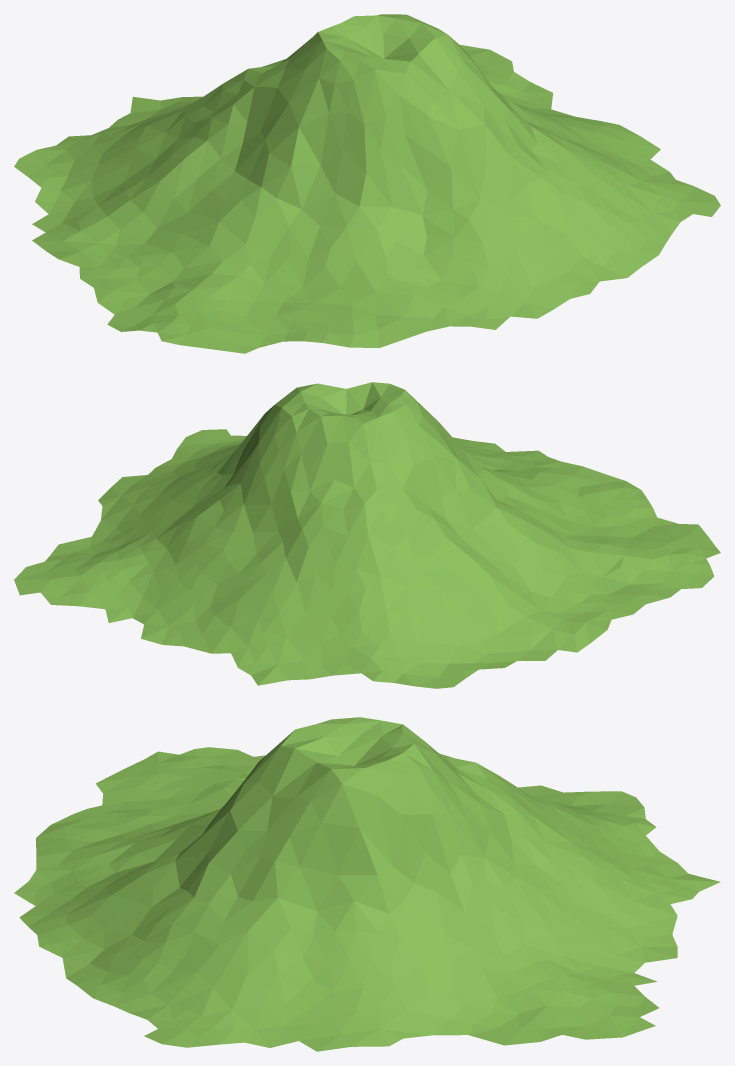
Rendered from MT_Mountain_L_a_12_LOD.fbx.
3 views of the same model, one above another, from view 1: azimuth 30°, elevation 25°; view 2: azimuth 150°, elevation 25°; view 3: azimuth 270°, elevation 25° (orthographic). The views are drawn at different scales.
Parts seen in each view (by area): view 1: MT_Mountain_L_a_12_LOD0; view 2: MT_Mountain_L_a_12_LOD0; view 3: MT_Mountain_L_a_12_LOD0.
Boxes of the visible parts, x1,y1,x2,y2 form: MT_Mountain_L_a_12_LOD0: (14,14,720,353); MT_Mountain_L_a_12_LOD0: (14,382,720,688); MT_Mountain_L_a_12_LOD0: (14,717,720,1051).
Size of what is drawn, in the model's own units: 7832 by 2153 by 7655.
